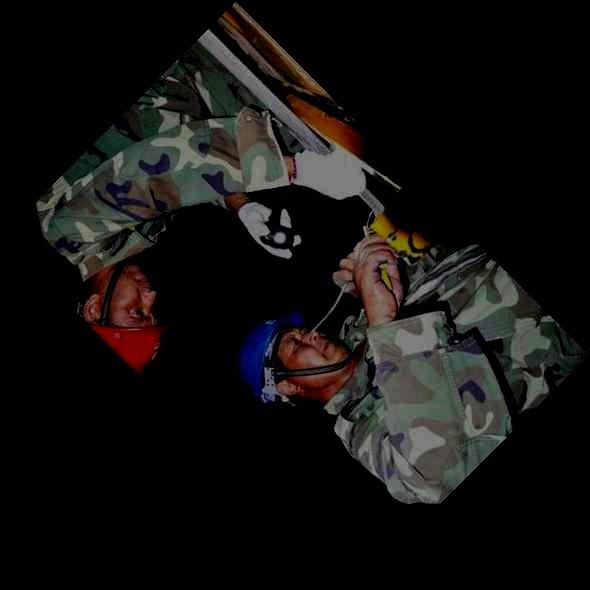helmet: (240, 315, 351, 402), (77, 265, 166, 373)
